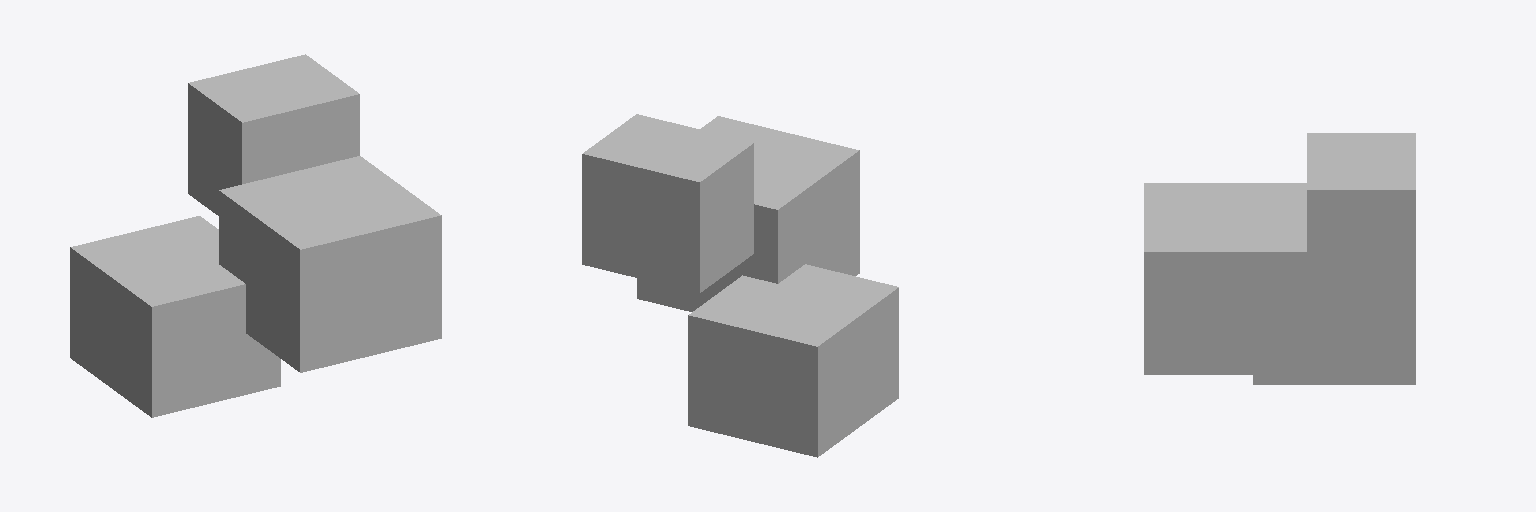
The model's file is Cloud1.obj.
3 views of the same model, side by side, from view 1: azimuth 30°, elevation 25°; view 2: azimuth 150°, elevation 25°; view 3: azimuth 270°, elevation 25° (orthographic).
Visible parts, largest first — view 1: object 1; view 2: object 1; view 3: object 1.
Part boxes in pixels (bbox=[...]): object 1: bbox=[70, 54, 441, 417]; object 1: bbox=[582, 114, 898, 457]; object 1: bbox=[1144, 133, 1415, 384].
Size of the model in its own units: 2 by 2 by 2.